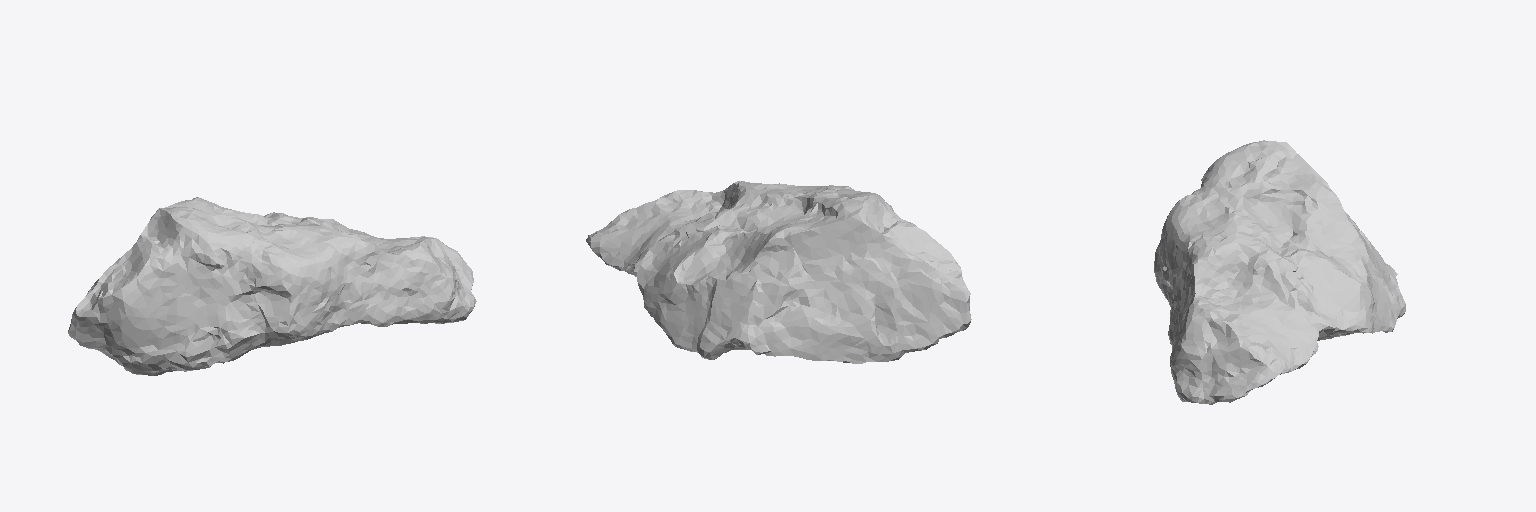
File: rock4.obj
The picture shows the model from 3 angles: view 1: azimuth 30°, elevation 25°; view 2: azimuth 150°, elevation 25°; view 3: azimuth 270°, elevation 25°; orthographic projection.
Parts seen in each view (by area): view 1: moss_rock_10; view 2: moss_rock_10; view 3: moss_rock_10.
Part boxes in pixels (x1,y1,x2,y2): moss_rock_10: (68, 197, 476, 375); moss_rock_10: (586, 181, 971, 363); moss_rock_10: (1154, 140, 1405, 404).
Size of the model in its own units: 1.76 by 0.6085 by 0.9818.